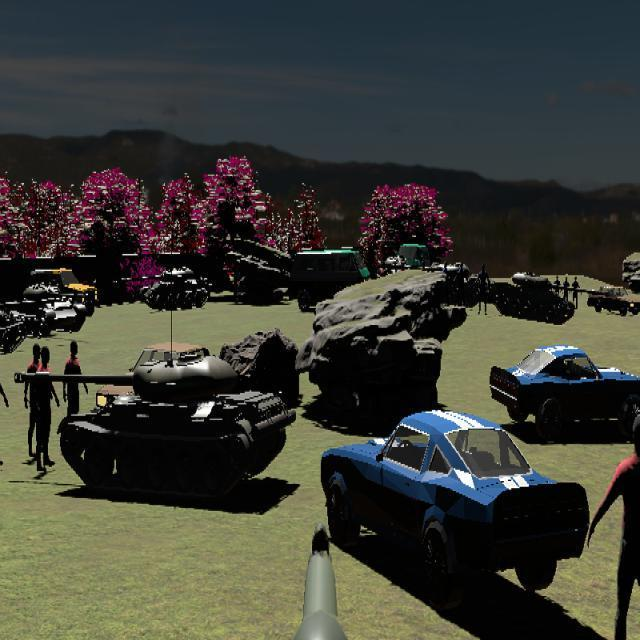Human: (587, 410, 640, 640)
Tank: (13, 345, 294, 501), (1, 280, 89, 338), (493, 270, 583, 324), (121, 265, 209, 311)
car: (320, 410, 593, 600), (489, 344, 640, 442), (288, 247, 370, 313), (587, 285, 640, 317)
